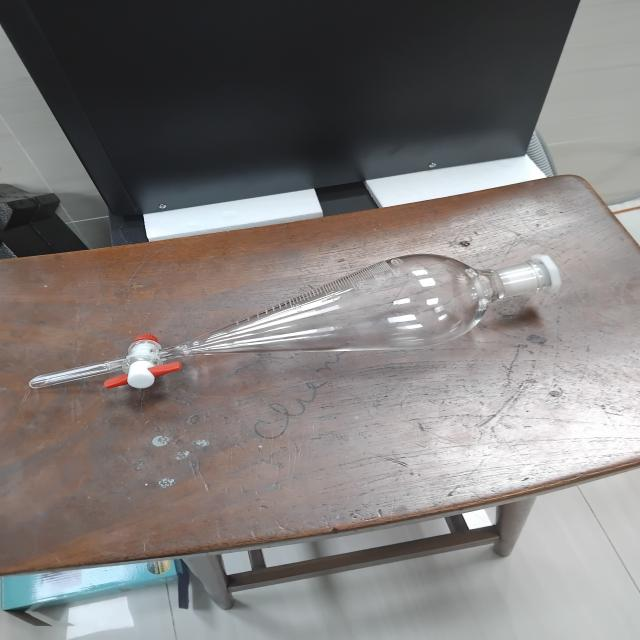Separating_Funnel: (17, 239, 574, 432)
